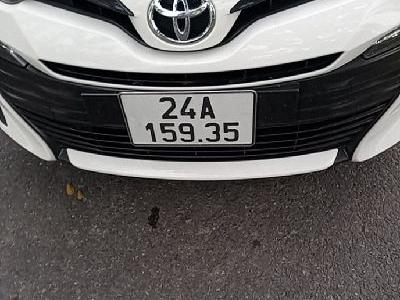lisence: (116, 91, 258, 149)
